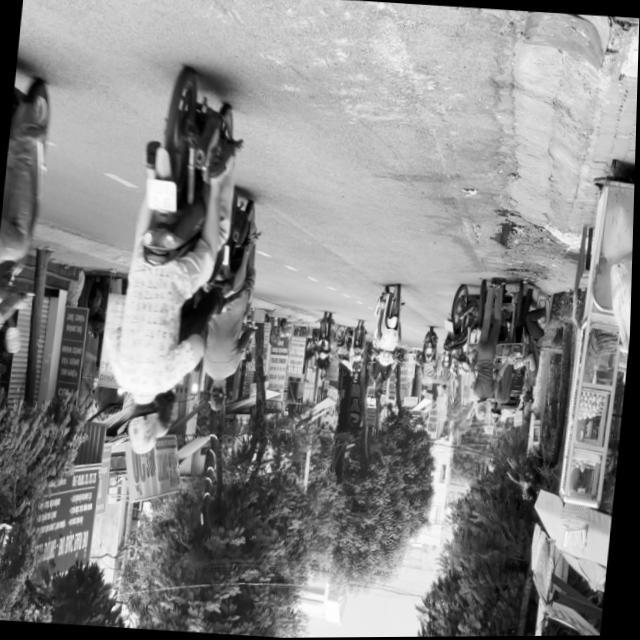helmet: (125, 391, 165, 456), (152, 389, 176, 441)
licenseplate: (101, 64, 252, 461), (193, 186, 268, 416)
motorcyclist: (207, 381, 228, 412)
nohelmet: (145, 178, 178, 212)
